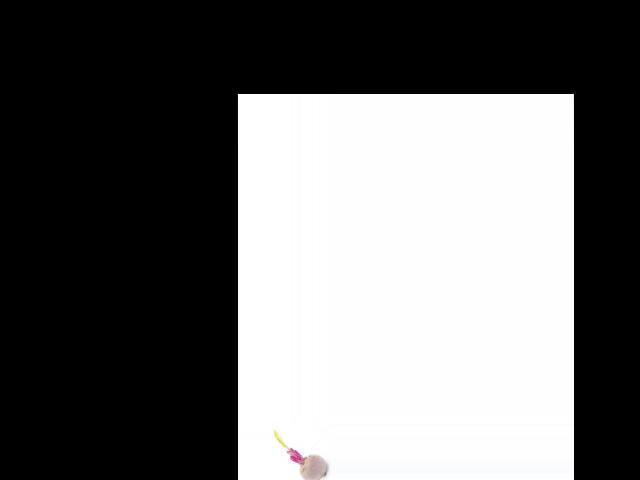beet: (274, 430, 326, 480)
